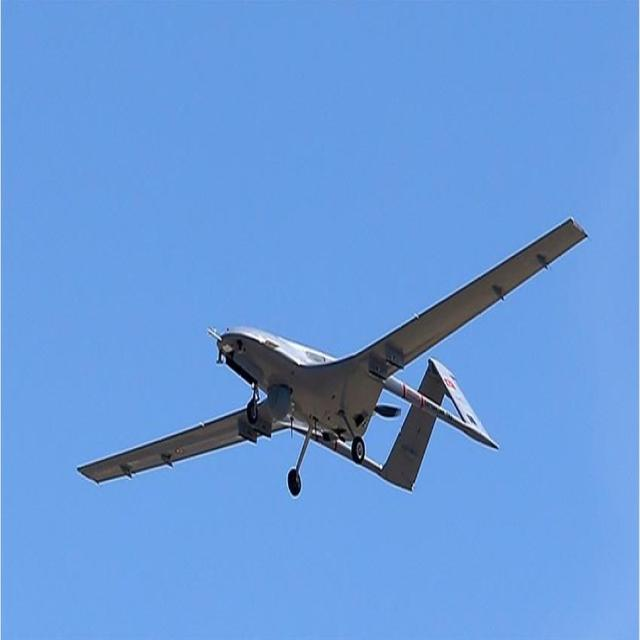iha: (78, 215, 587, 500)
